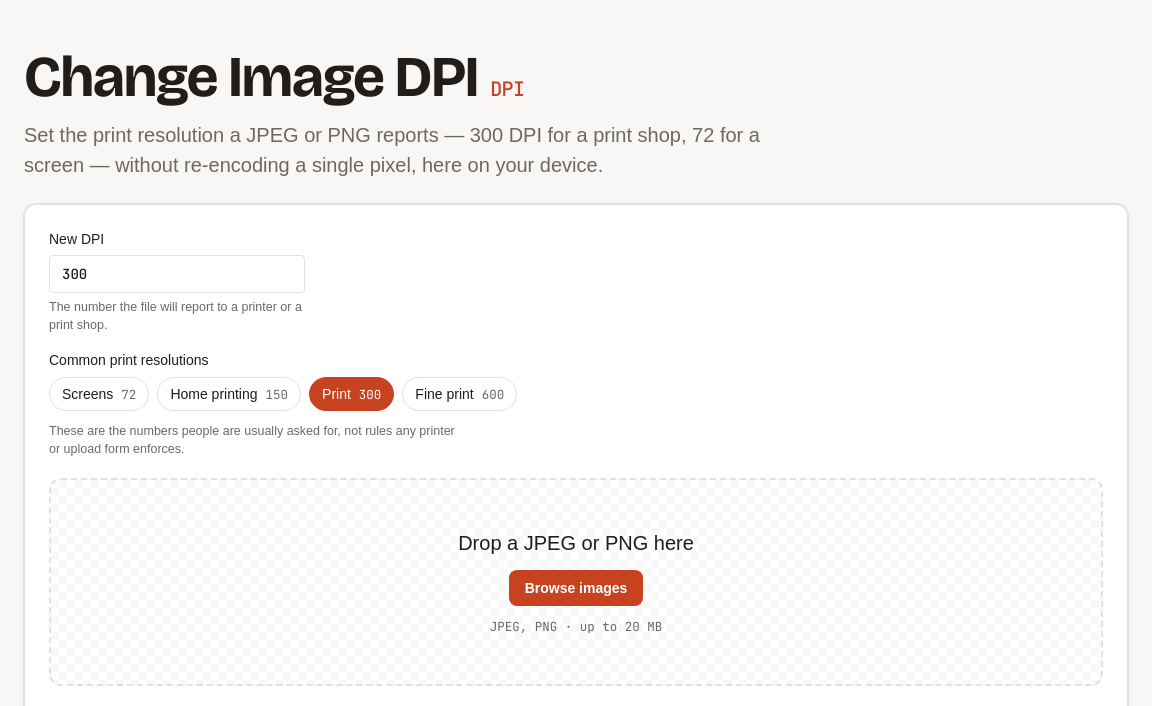
Test case: the DPI control › fills the field from the {} chip
This screenshot has width=1152, height=706.
Click the button "Screens 72": coordinates (99, 394) [49,377,149,411]
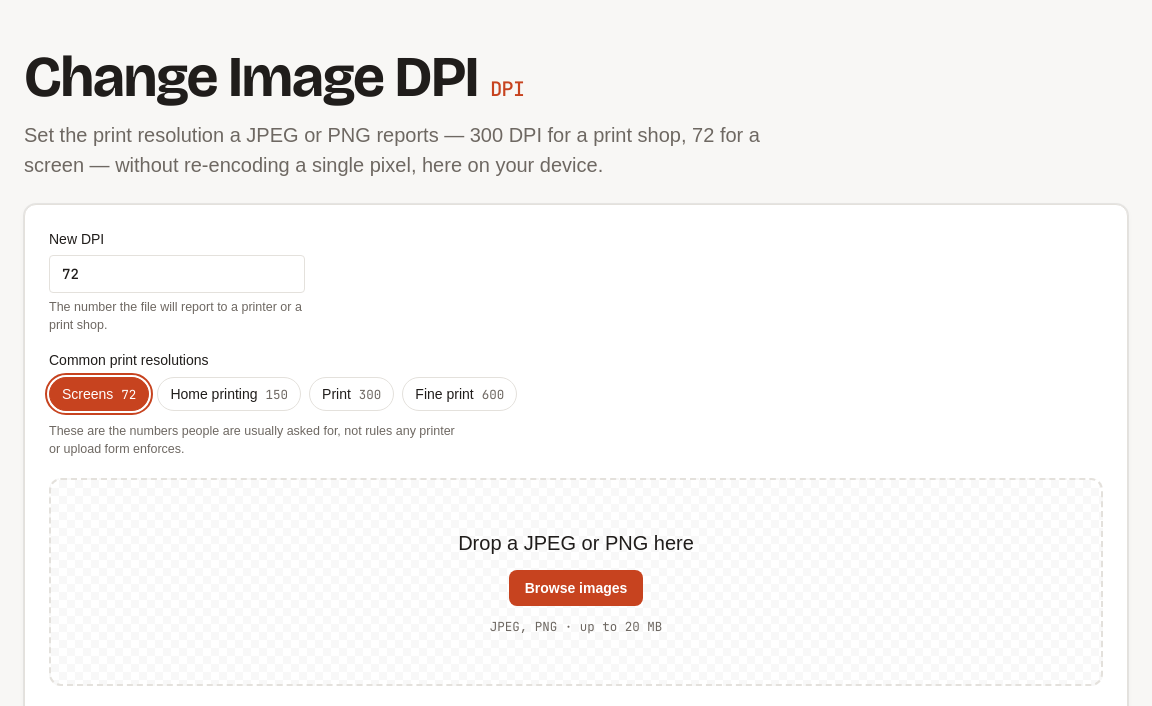
Expected: the number field labelled "New DPI" holds "72", [49,255,305,294]
